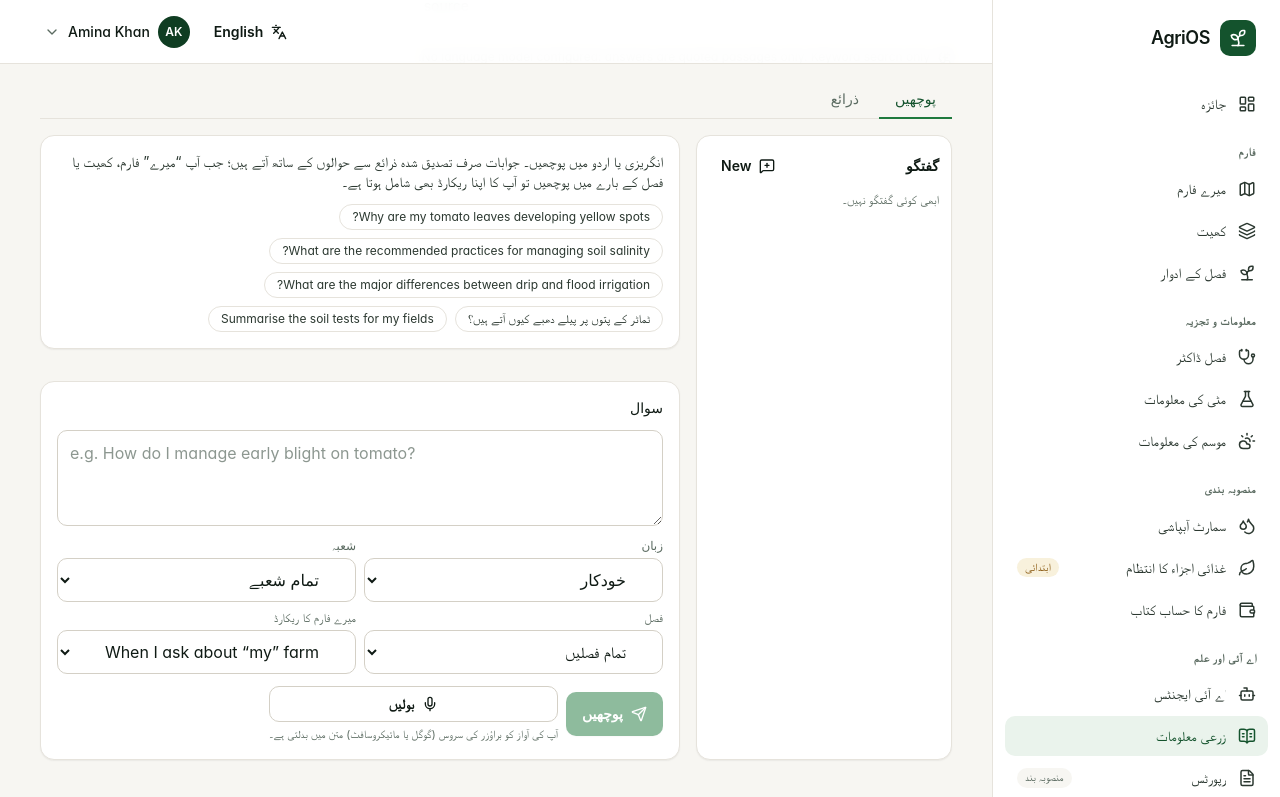
Test: Voice output › reads a passage with an installed Urdu voice, then offers stop and repeat
(page scrolled)
Step 1. Type "zorblat water" into the text box labelled "سوال" → [360, 478], box [57, 430, 663, 526]
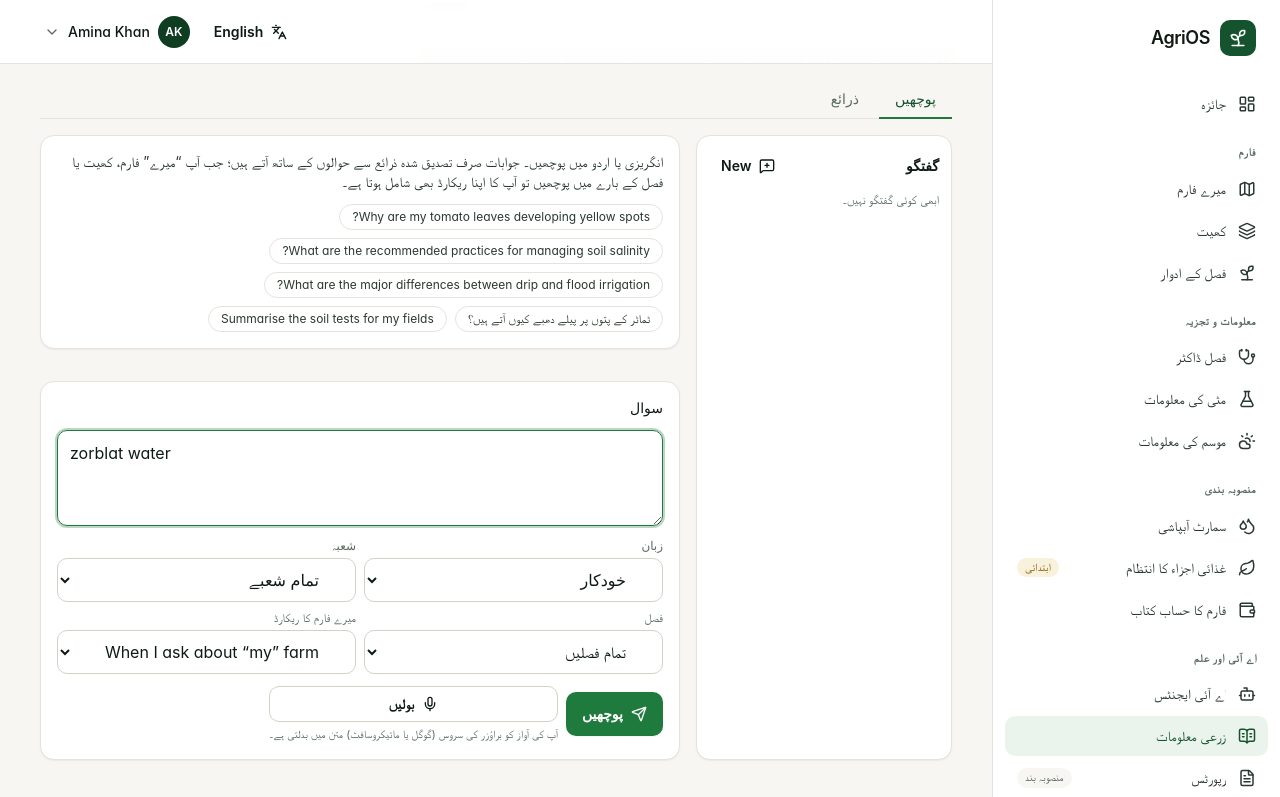
Step 2. Click the button "پوچھیں" → [614, 714], box [566, 692, 663, 736]
(page scrolled)
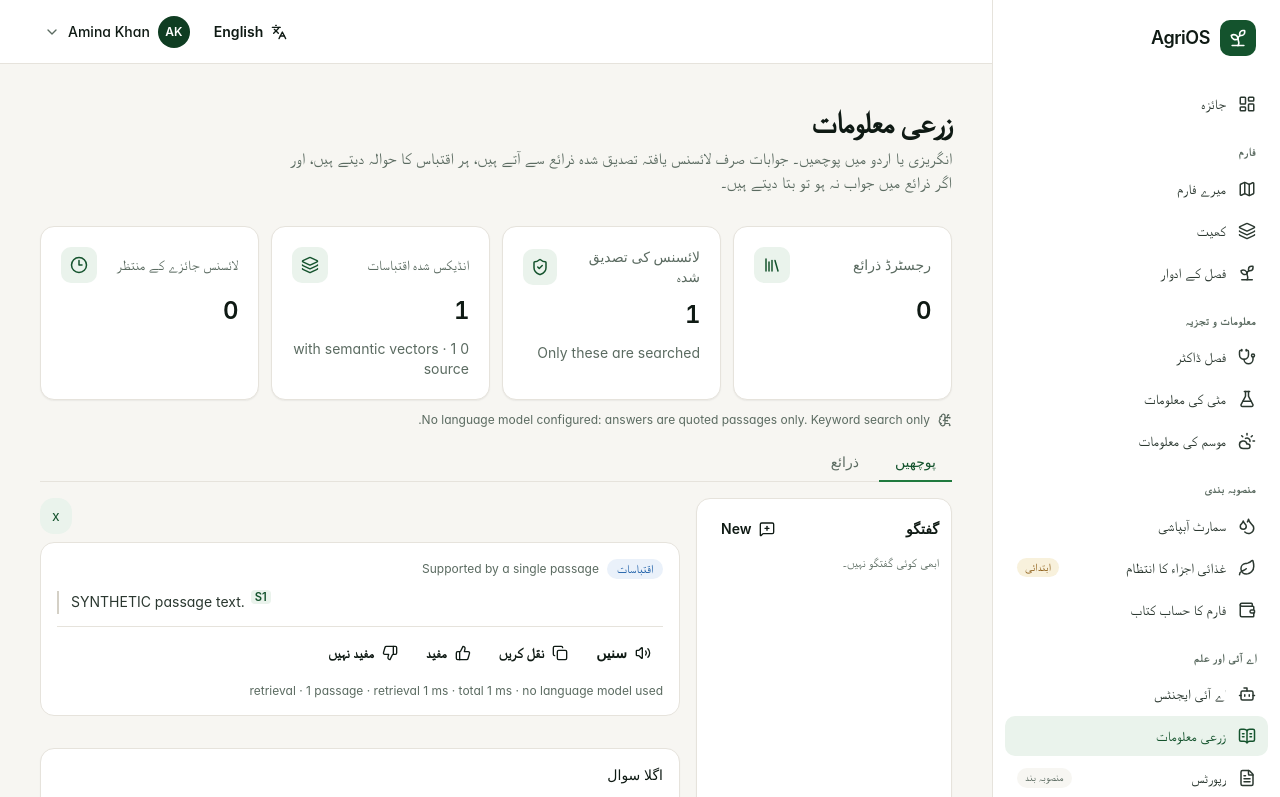
Expected: the text "SYNTHETIC passage text." is shown, [71, 593, 249, 610]
Step 3. Click the button "سنیں" → [624, 653], box [584, 635, 663, 671]
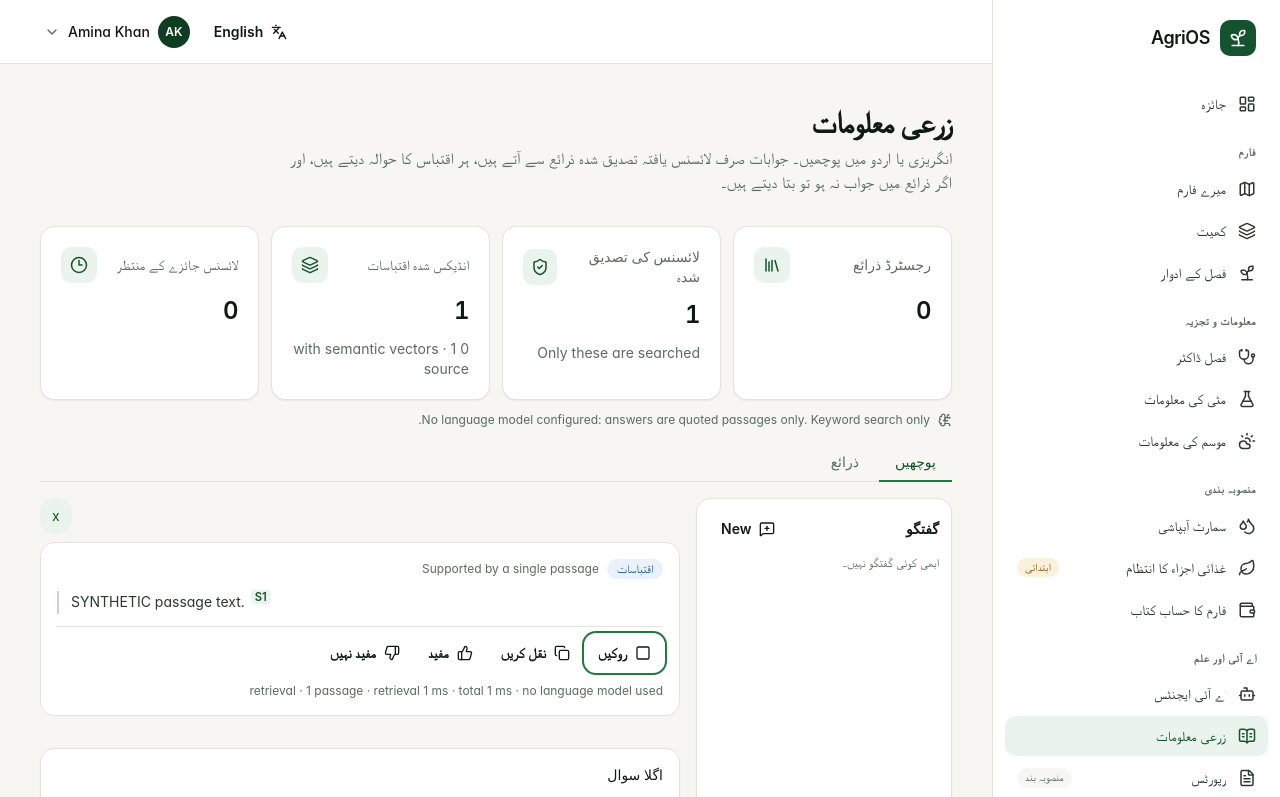
Expected: the button "روکیں" is shown
Step 4. Click the button "روکیں" → [625, 653], box [586, 635, 663, 671]
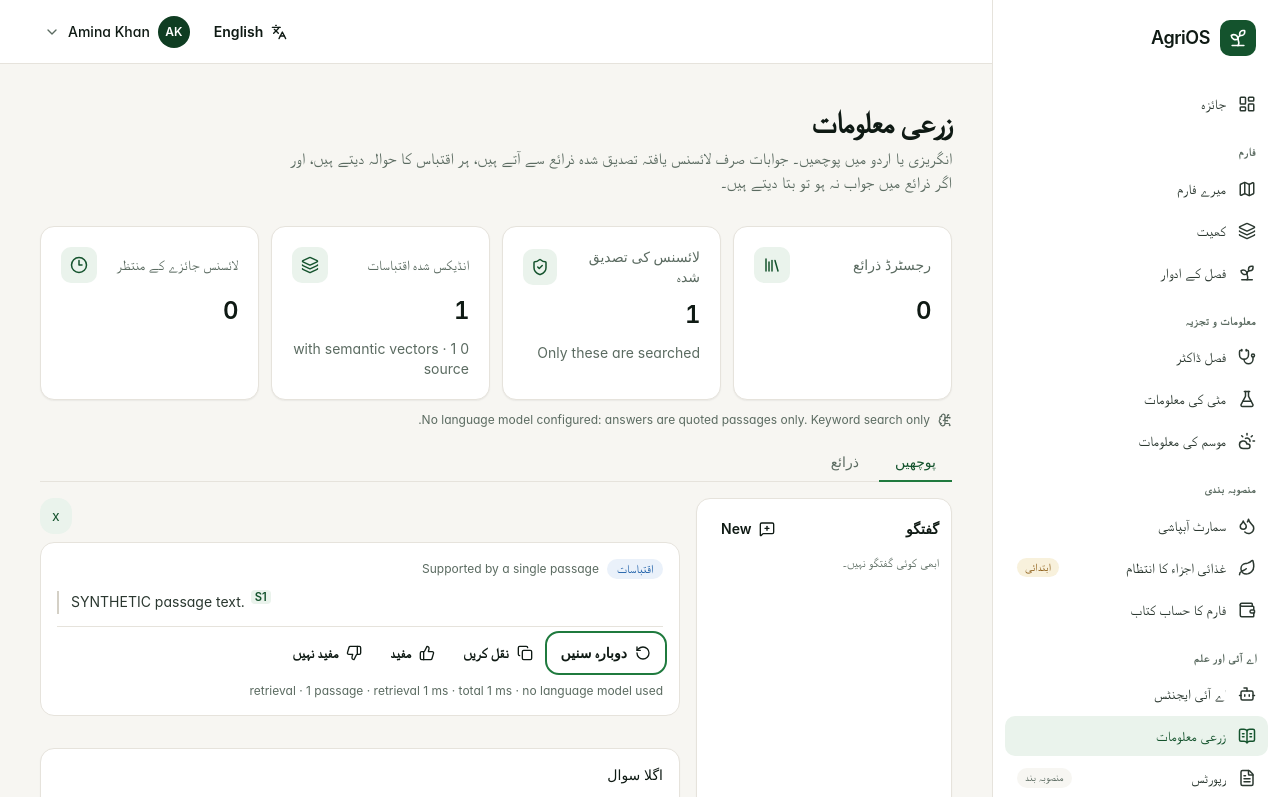
Expected: the button "دوبارہ سنیں" is shown, [548, 635, 663, 671]
